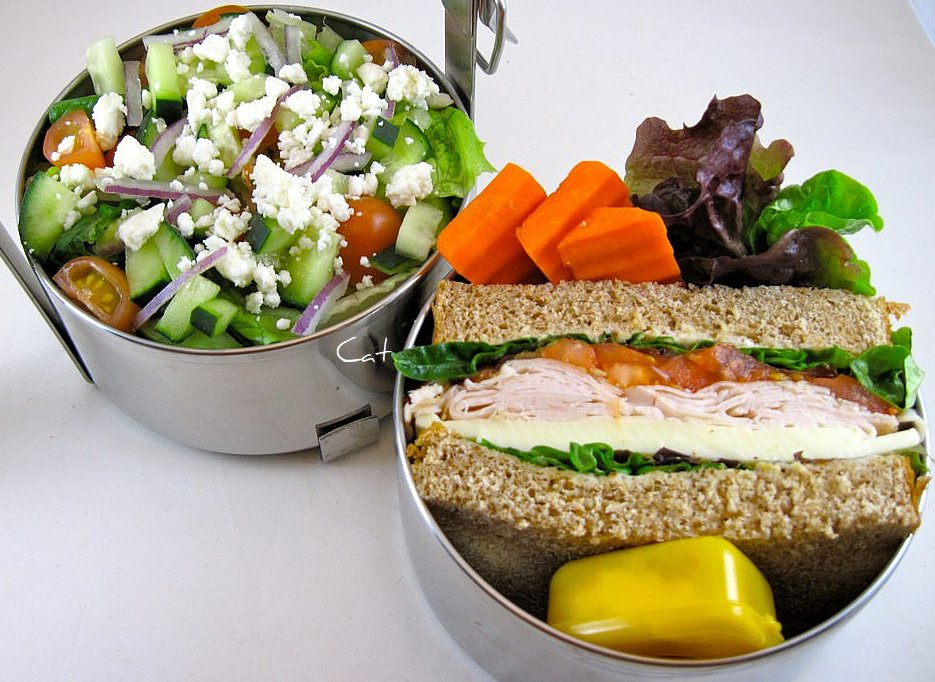chopped lettuce: (635, 88, 900, 293), (384, 336, 929, 384)
slice of bread: (414, 428, 924, 576), (439, 274, 906, 364)
